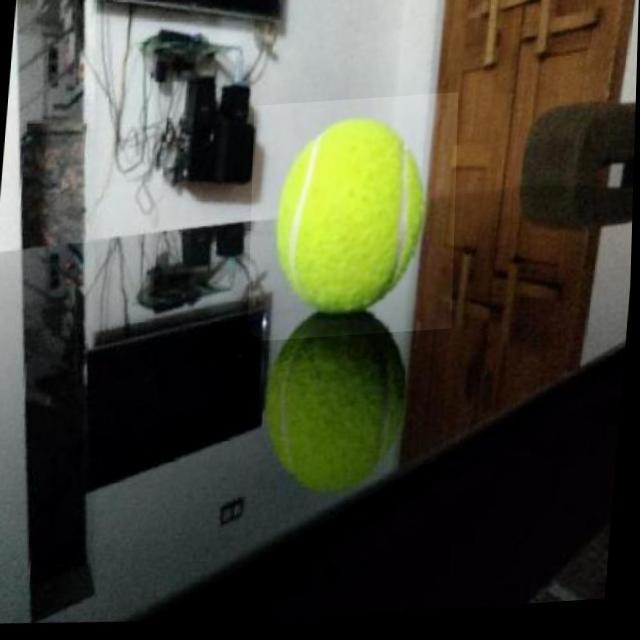-: (250, 98, 459, 346)
